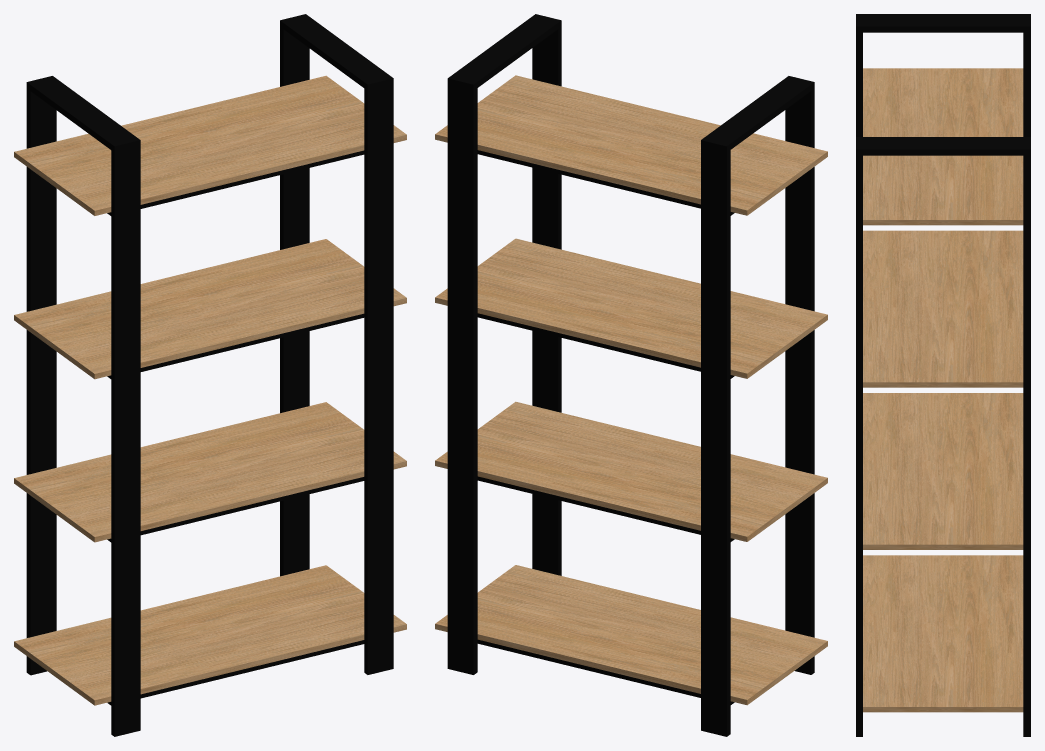
The model's file is shelving-001.glb.
The picture shows the model from 3 angles, left to right: view 1: azimuth 30°, elevation 25°; view 2: azimuth 150°, elevation 25°; view 3: azimuth 270°, elevation 25°; orthographic projection.
Visible parts, largest first — view 1: shalving; view 2: shalving; view 3: shalving.
Part boxes in pixels (x1=…): shalving: x1=14, y1=14, x2=406, y2=736; shalving: x1=435, y1=14, x2=827, y2=736; shalving: x1=856, y1=14, x2=1030, y2=736.
Bounding box in the file's own units: 0.8276 × 1.5 × 0.4037.
Materials: 2 (1 with a texture image).
